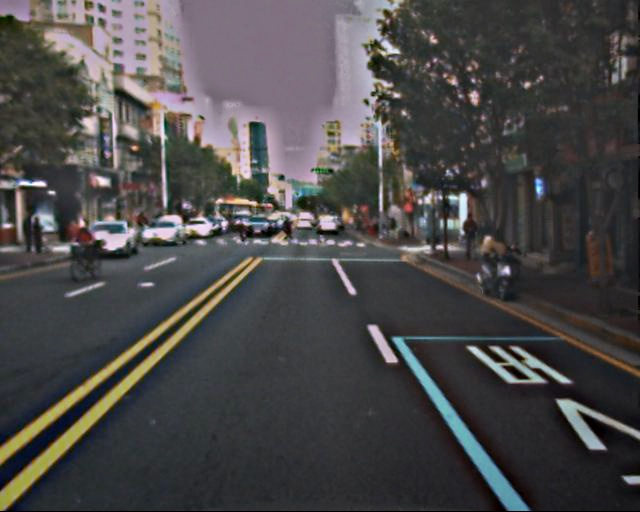person: (475, 212, 496, 264), (460, 213, 480, 262), (22, 215, 44, 255), (281, 214, 295, 249)
